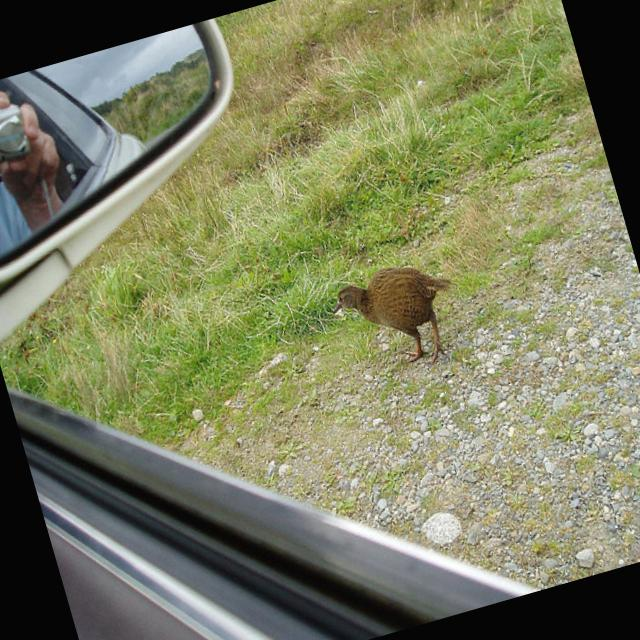Vehicle: (7, 264, 538, 640)
